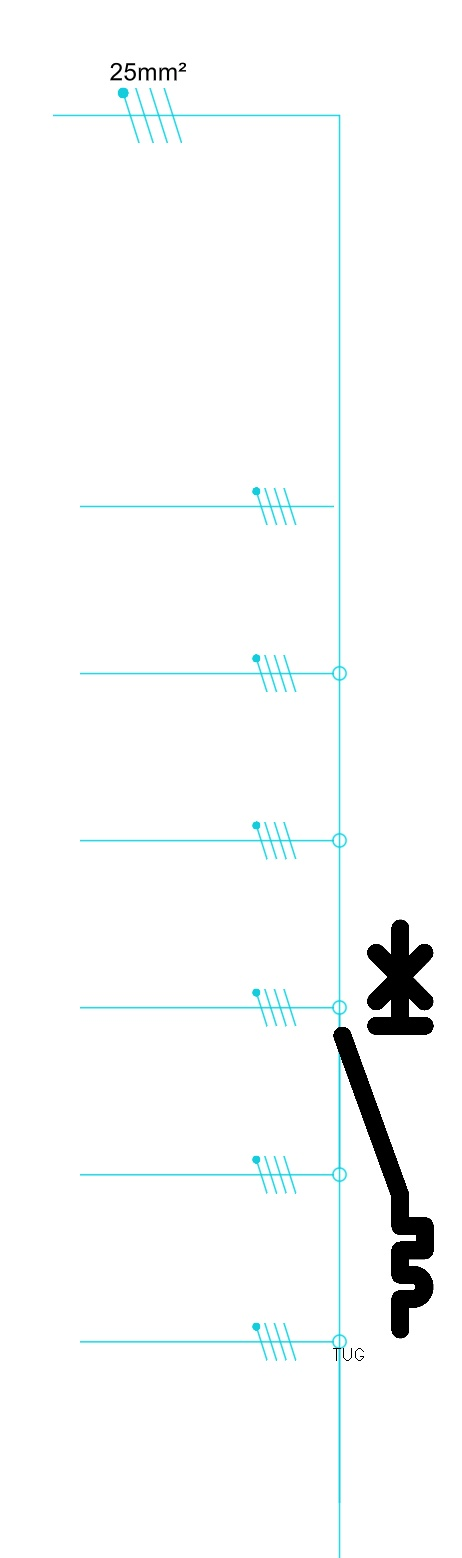interruptor_termomagnetico: (332, 918, 435, 1340)
